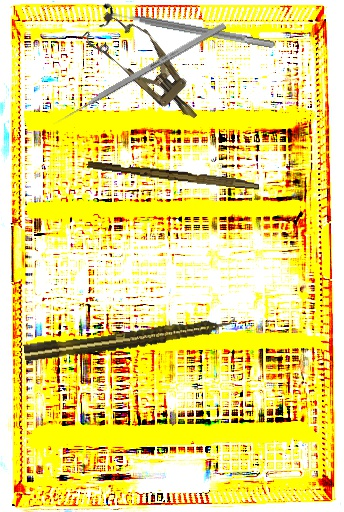Fixation Ring: (98, 0, 277, 59)
Handpiece: (23, 313, 237, 364)
Pusher: (51, 21, 227, 128)
Scalpel Handle: (86, 159, 261, 191)
Speculum: (79, 0, 215, 137)
